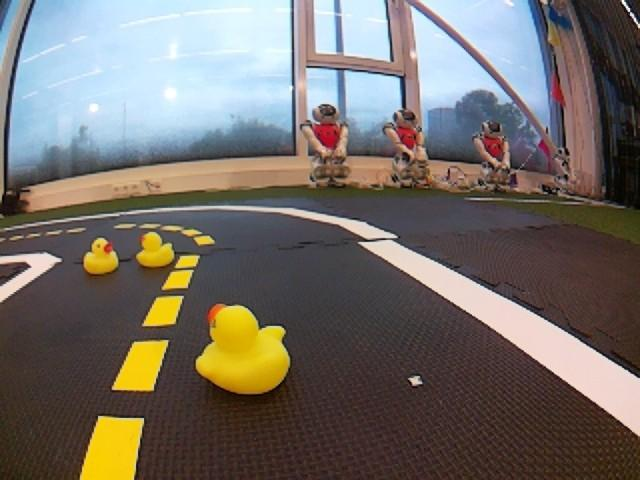Duckies: (197, 303, 289, 394), (136, 233, 175, 267), (84, 237, 119, 274)
